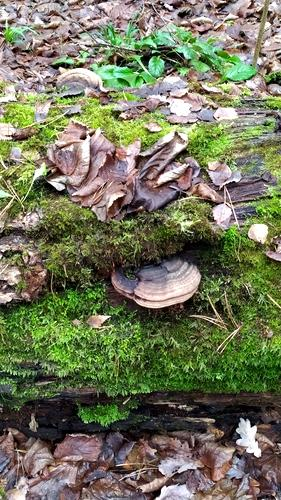Ganoderma - Fruit Body: (110, 256, 209, 310), (55, 62, 103, 97)
